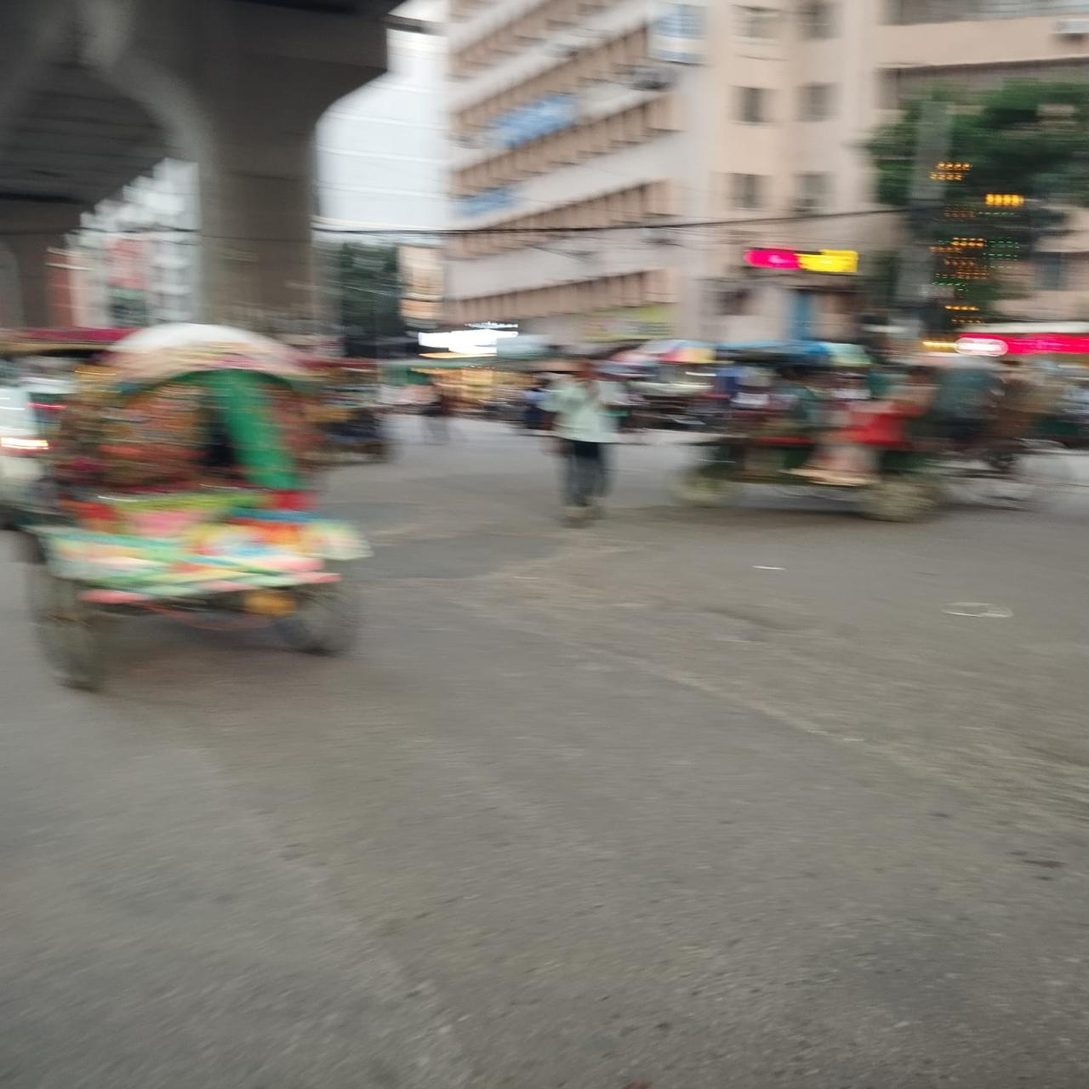person: (547, 360, 626, 535)
